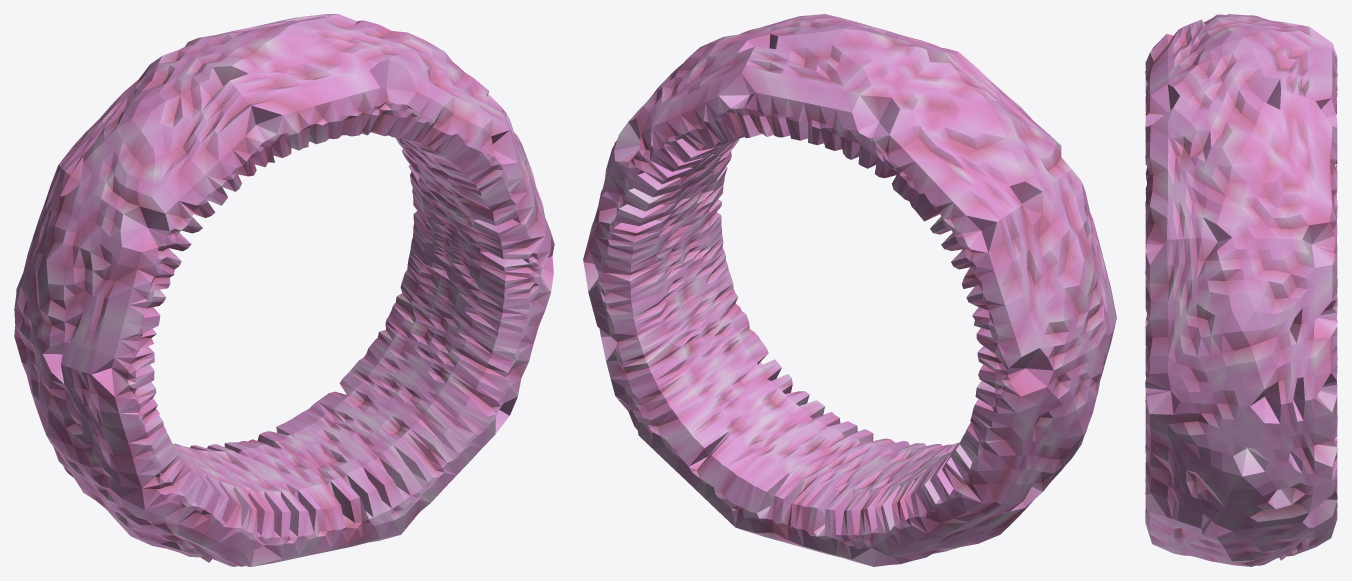
Rendered from ring_final100.obj.
3 renders of one model, left to right at view 1: azimuth 30°, elevation 25°; view 2: azimuth 150°, elevation 25°; view 3: azimuth 270°, elevation 25°, orthographic. The views are drawn at different scales.
Bounding box in the file's own units: 2.15 × 2.2 × 0.7509.
